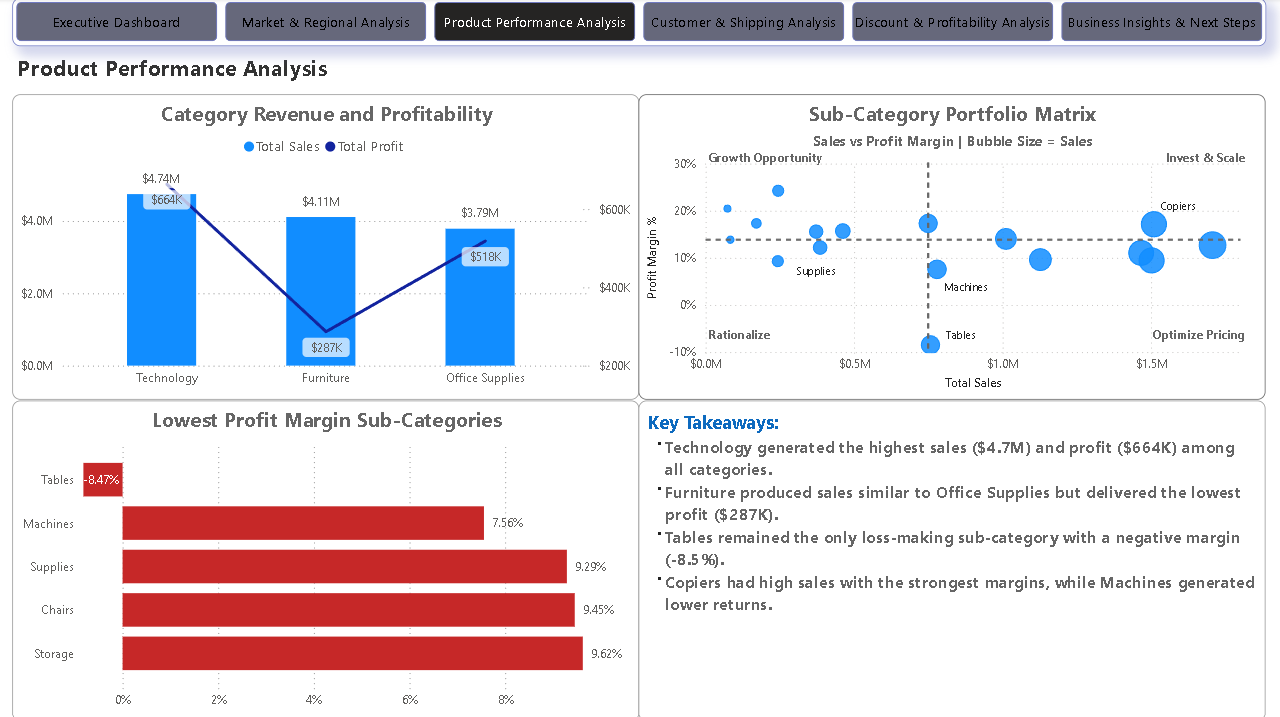

What the dashboard file says about the page in this screenshot:
{"tool":"powerbi","page":{"name":"Product Performance Analysis","canvas":[1280,720],"ordinal":2},"visuals":[{"type":"textbox","box":[16,48,448,48],"z":0},{"type":"clusteredBarChart","title":"Lowest Profit Margin Sub-Categories","fields":{"Category":["in.sub_category"],"Y":["RetailSales.Profit Margin %"]},"box":[16,400,624,320],"z":1000},{"type":"pageNavigator","box":[16,0,1248,48],"z":2000},{"type":"lineClusteredColumnComboChart","title":"Category Revenue and Profitability","fields":{"Category":["in.category"],"Y":["Measure.Total Sales"],"Y2":["Measure.Total Profit"]},"box":[16,96,624,304],"z":3000},{"type":"textbox","box":[640,400,624,320],"z":4000},{"type":"scatterChart","title":"Sub-Category Portfolio Matrix","fields":{"X":["Measure.Total Sales"],"Y":["Measure.Profit Margin %"],"Category":["RetailSales.sub_category"],"Size":["Measure.Total Sales"]},"box":[640,96,624,304],"z":5000},{"type":"textbox","box":[1072,144,176,32],"z":6000},{"type":"textbox","box":[704,144,176,32],"z":7000},{"type":"textbox","box":[704,320,176,32],"z":8000},{"type":"textbox","box":[1072,320,176,32],"z":9000},{"type":"textbox","box":[928,320,64,32],"z":10000},{"type":"textbox","box":[1152,192,48,32],"z":11000},{"type":"textbox","box":[928,272,64,32],"z":12000},{"type":"textbox","box":[784,256,64,32],"z":13000}]}

Visuals, with their boxes in screenshot pixels (x1, y1, x2, y2), scaled from the page's 1280x720 canvas onto the 1280x717 screenshot:
textbox: crop(16, 48, 464, 96)
"Lowest Profit Margin Sub-Categories" clusteredBarChart: crop(16, 398, 640, 716)
pageNavigator: crop(16, 0, 1264, 48)
"Category Revenue and Profitability" lineClusteredColumnComboChart: crop(16, 96, 640, 398)
textbox: crop(640, 398, 1264, 716)
"Sub-Category Portfolio Matrix" scatterChart: crop(640, 96, 1264, 398)
textbox: crop(1072, 143, 1248, 175)
textbox: crop(704, 143, 880, 175)
textbox: crop(704, 319, 880, 351)
textbox: crop(1072, 319, 1248, 351)
textbox: crop(928, 319, 992, 351)
textbox: crop(1152, 191, 1200, 223)
textbox: crop(928, 271, 992, 303)
textbox: crop(784, 255, 848, 287)
